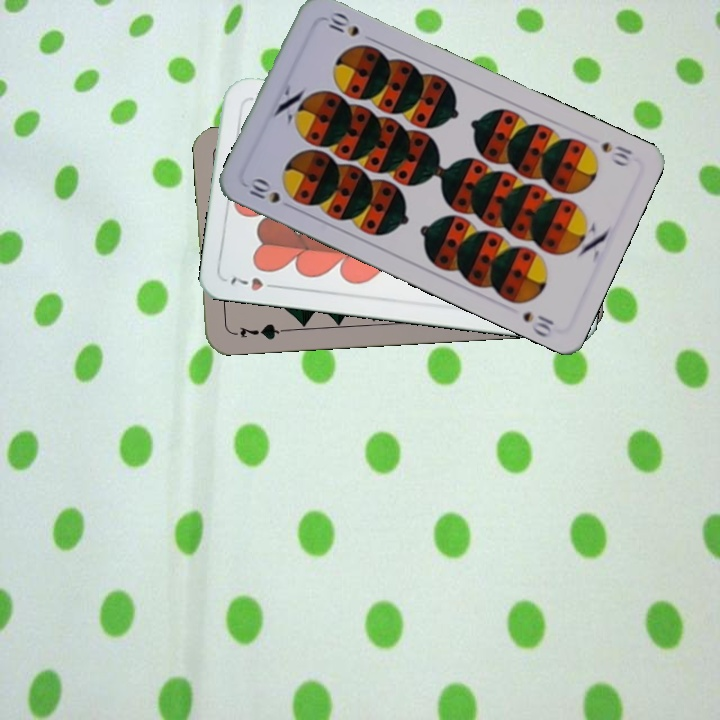G7: (236, 320, 287, 342)
H7: (226, 272, 283, 294)
S10: (245, 174, 297, 212), (597, 137, 635, 169)
